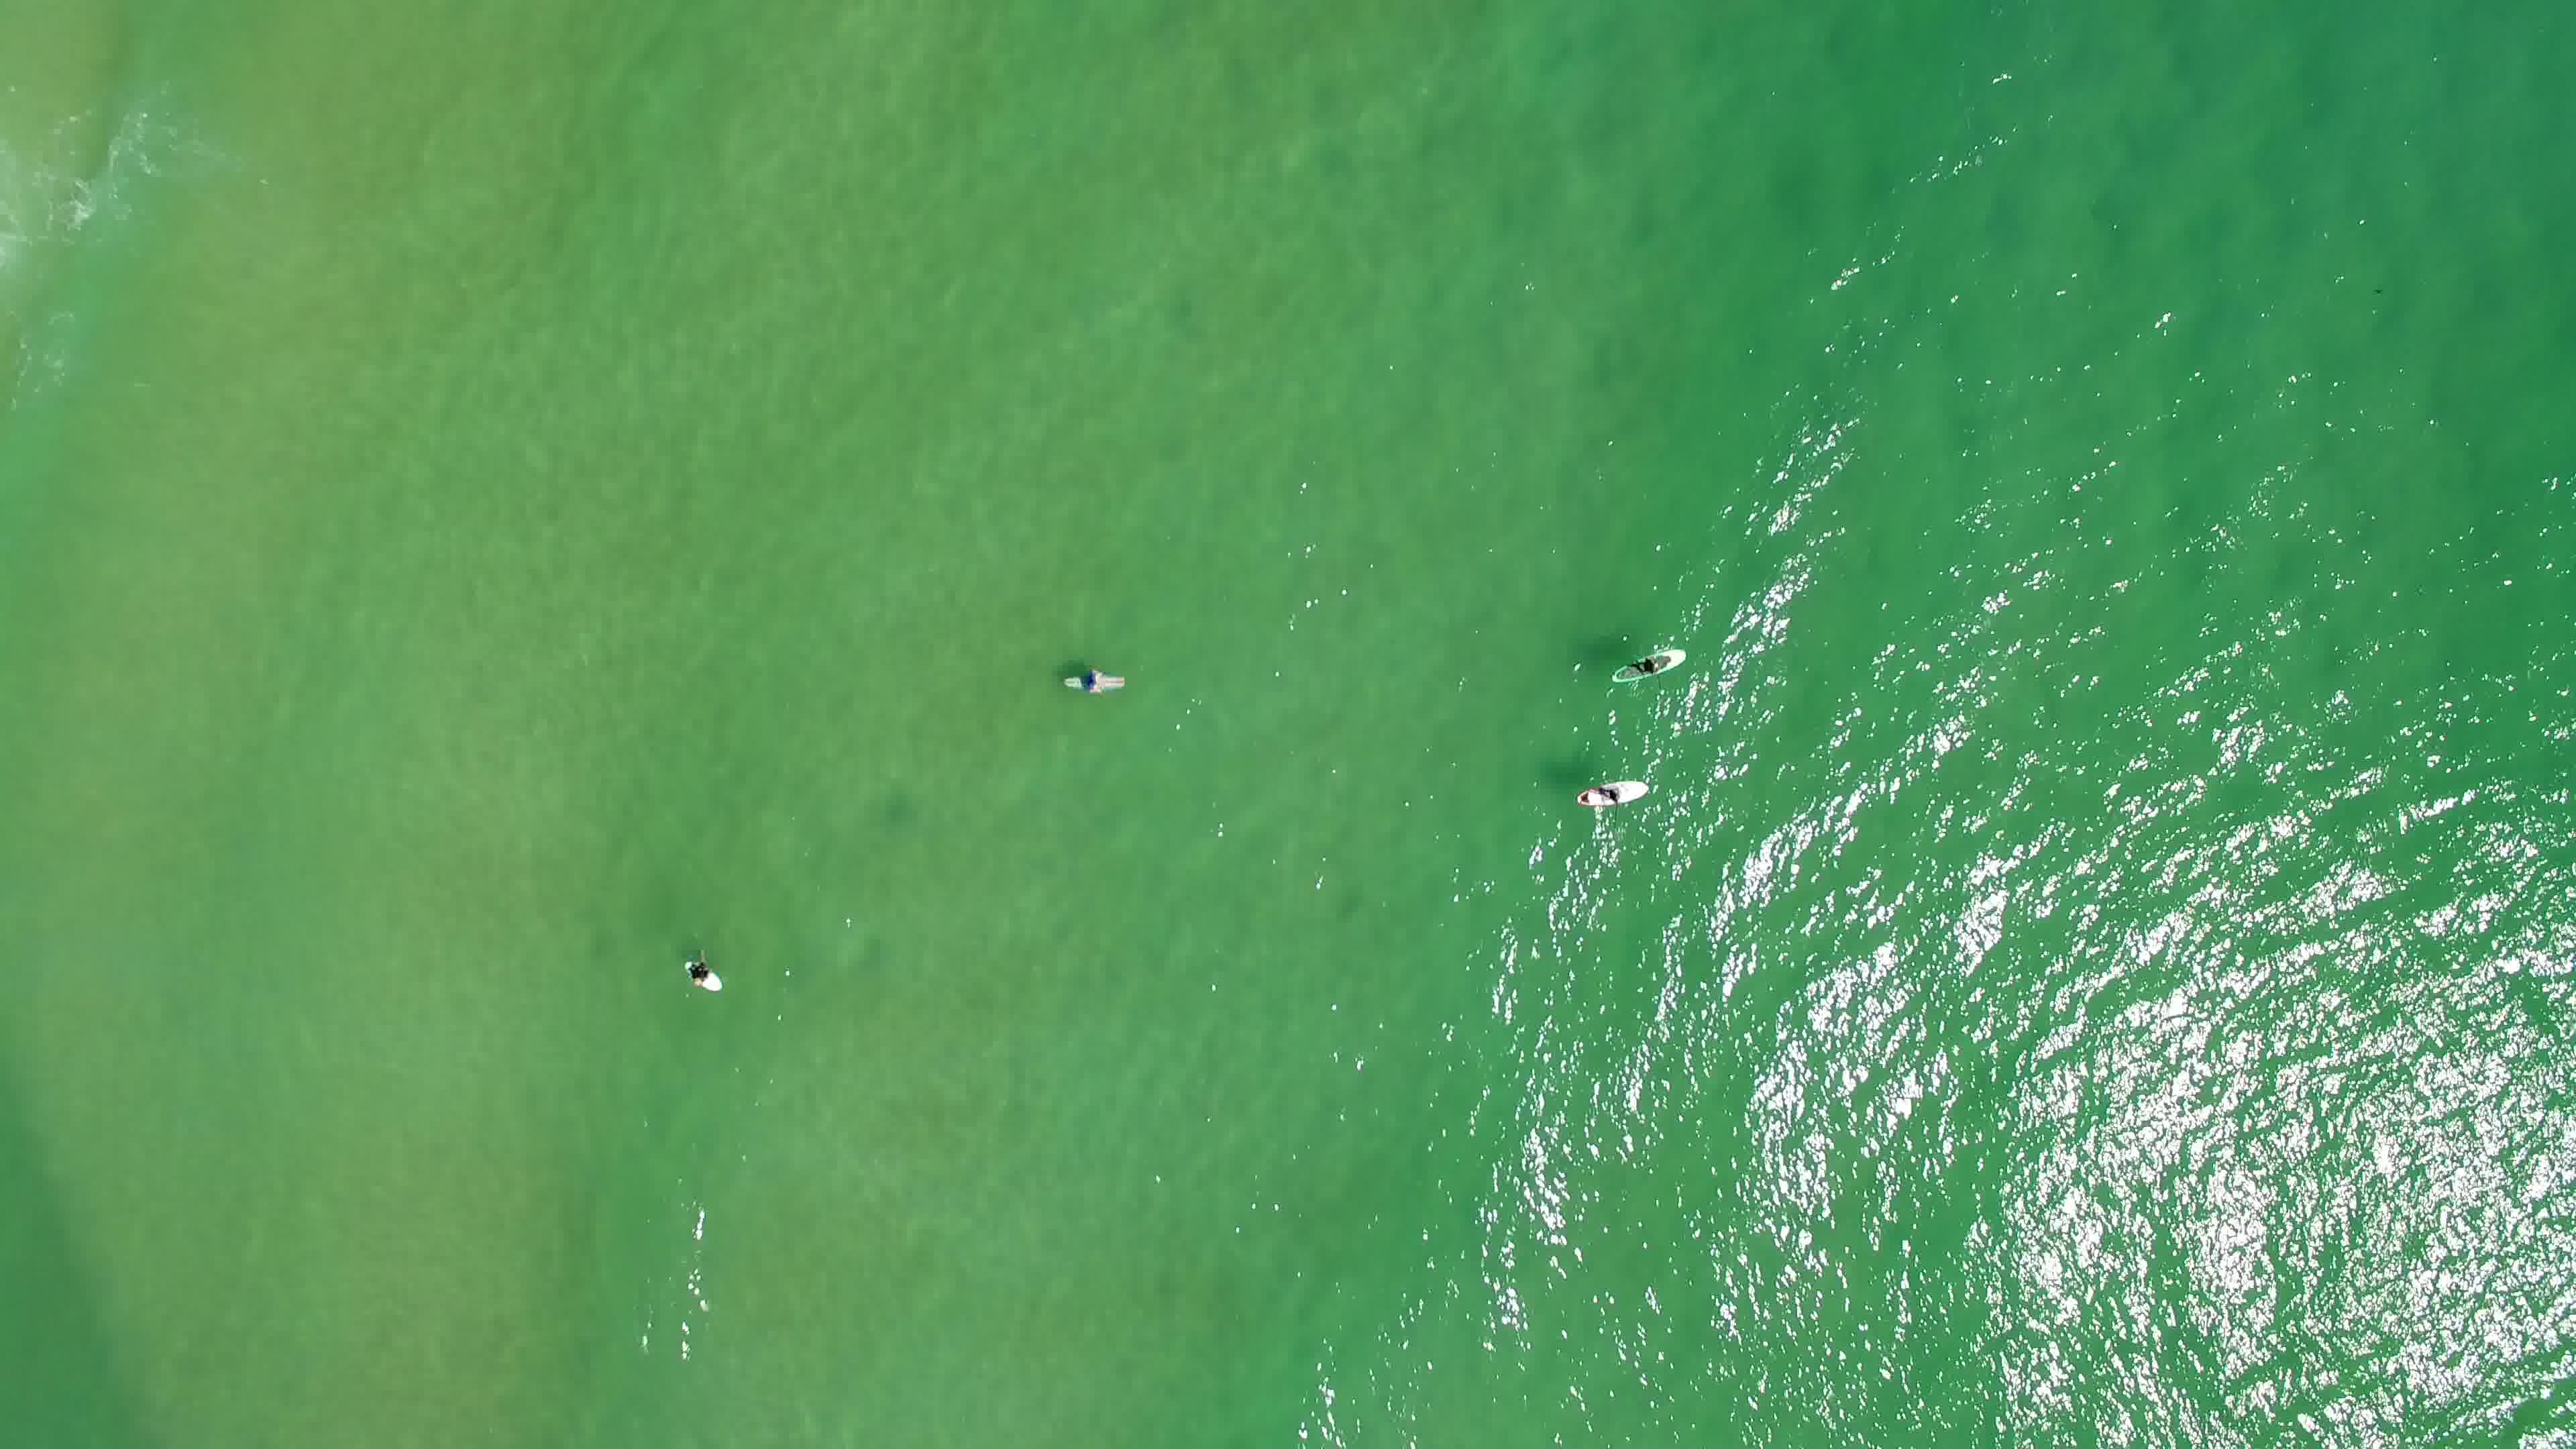surfer: (1606, 637, 1688, 692), (678, 945, 736, 1005), (1571, 768, 1651, 810), (1058, 663, 1136, 702)
